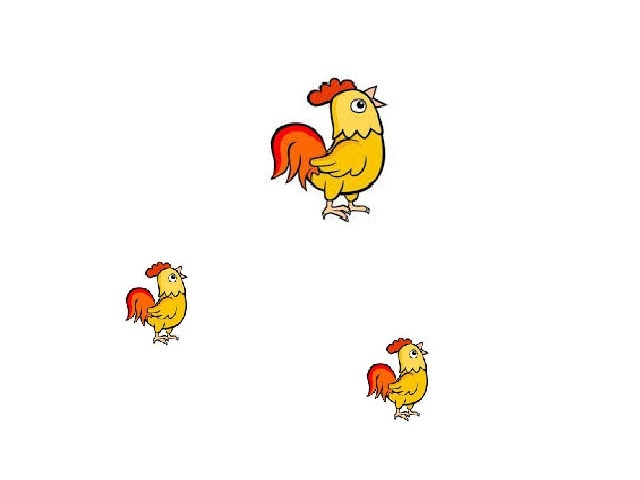crown: (302, 78, 357, 102), (384, 336, 412, 352), (144, 260, 169, 275)
eyes: (350, 97, 368, 113), (409, 348, 424, 366), (166, 272, 180, 285)
feet: (318, 200, 372, 223), (393, 408, 422, 426), (152, 335, 175, 342)
tail: (269, 117, 321, 186), (124, 288, 156, 325), (368, 361, 396, 397)
